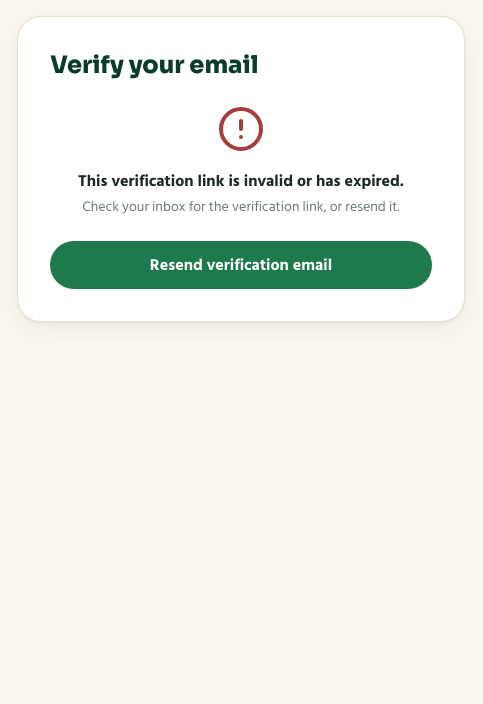
it: VerifyEmailPage › offers resend when logged in and the token is rejected
The width and height of the screenshot is (483, 704).
Click the button "Resend verification email" at (241, 265), box [50,241,432,289]
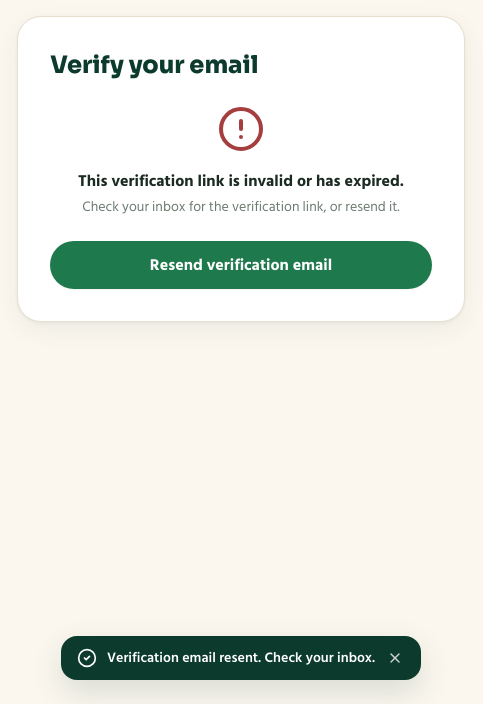
Now the text "Verification email resent. Check your inbox." is shown, box [107,648,375,668]
